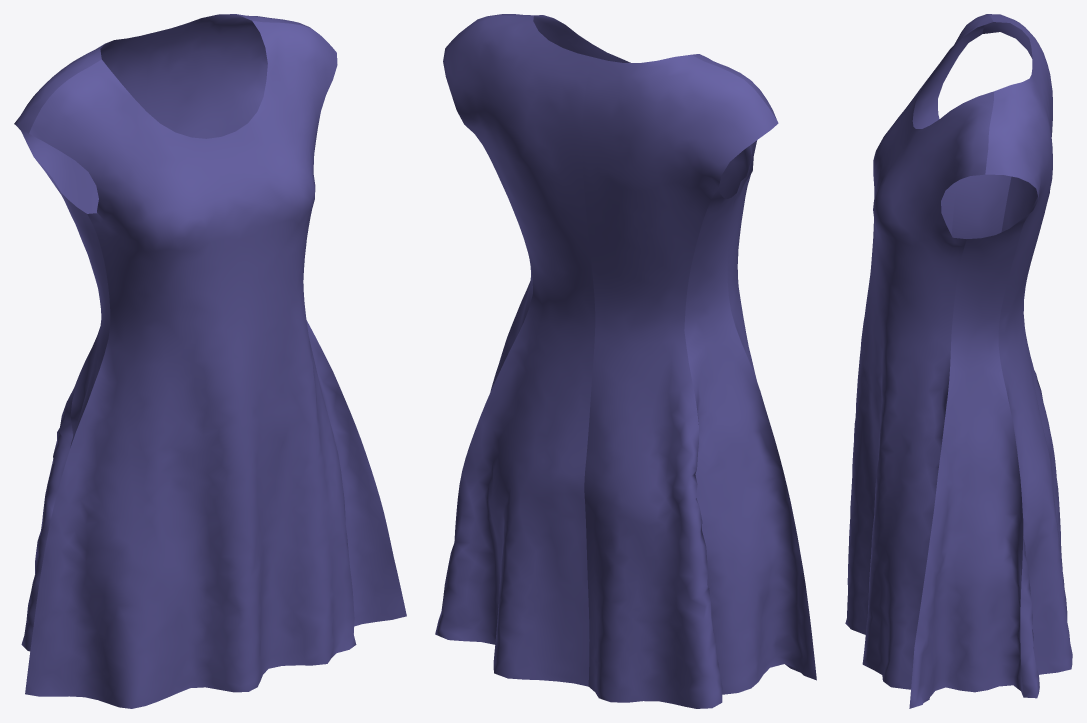
Rendered from onepiece.glb.
The picture shows the model from 3 angles, left to right: view 1: azimuth 30°, elevation 25°; view 2: azimuth 150°, elevation 25°; view 3: azimuth 270°, elevation 25°; orthographic projection. The views are drawn at different scales.
Parts seen in each view (by area): view 1: onepiece; view 2: onepiece; view 3: onepiece.
Part boxes in pixels (x1=…): onepiece: x1=14, y1=14, x2=406, y2=708; onepiece: x1=435, y1=14, x2=816, y2=708; onepiece: x1=845, y1=14, x2=1072, y2=708.
Bounding box in the file's own units: 4.82 × 7.82 × 2.74.
1 material, 1 textured.
